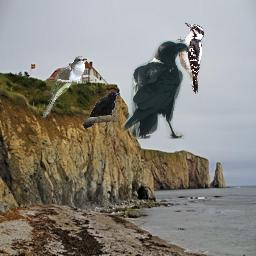Crow: (122, 40, 191, 139), (83, 92, 120, 129)
Cuckoo: (42, 56, 87, 118)
Woodpecker: (176, 22, 205, 95)
